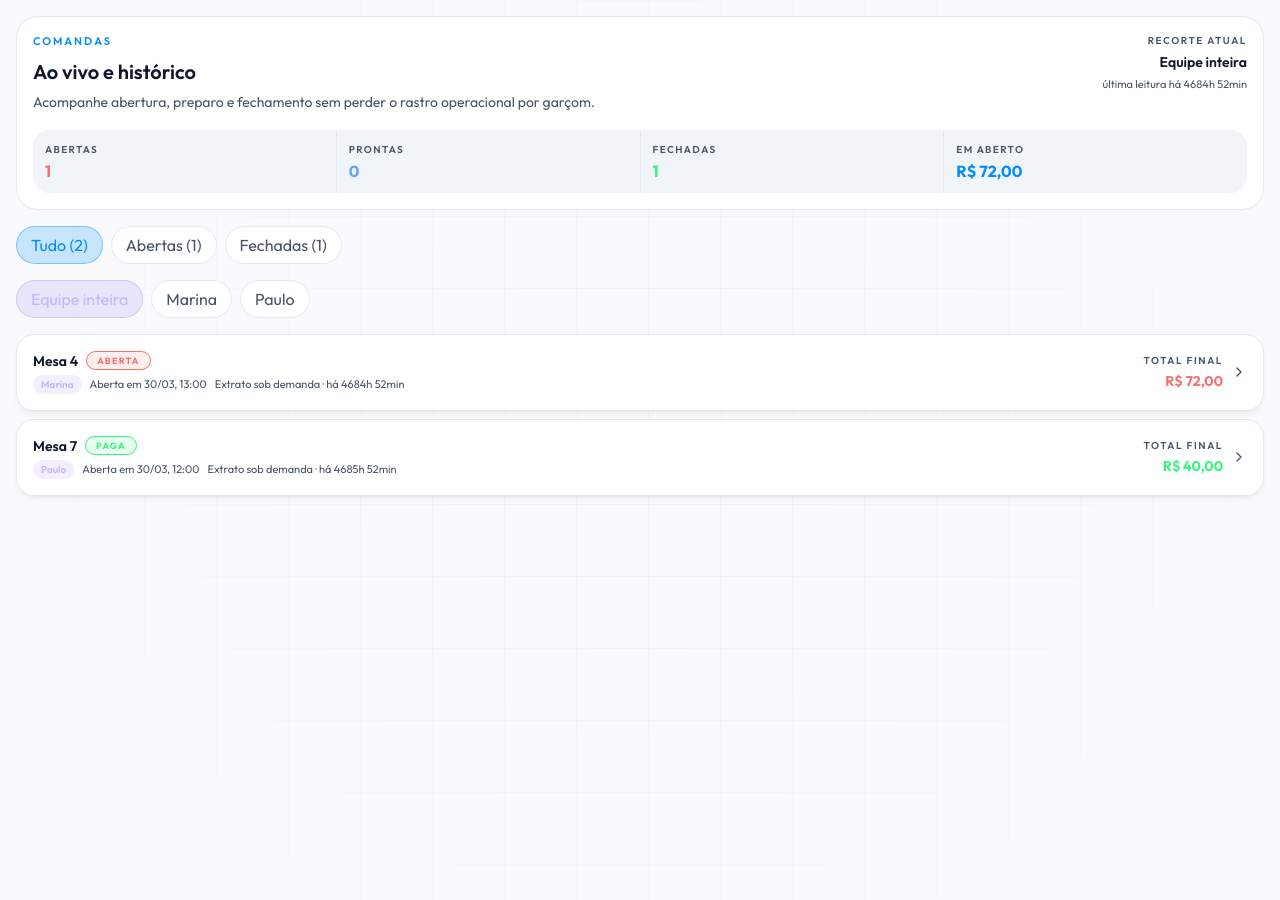
Test: OwnerComandasView › permite filtrar o atendimento por garçom e recalcula o recorte
Click the button with test id "owner-responsible-filter-marina" at (192, 298), box x1=151 y1=280 x2=232 y2=318
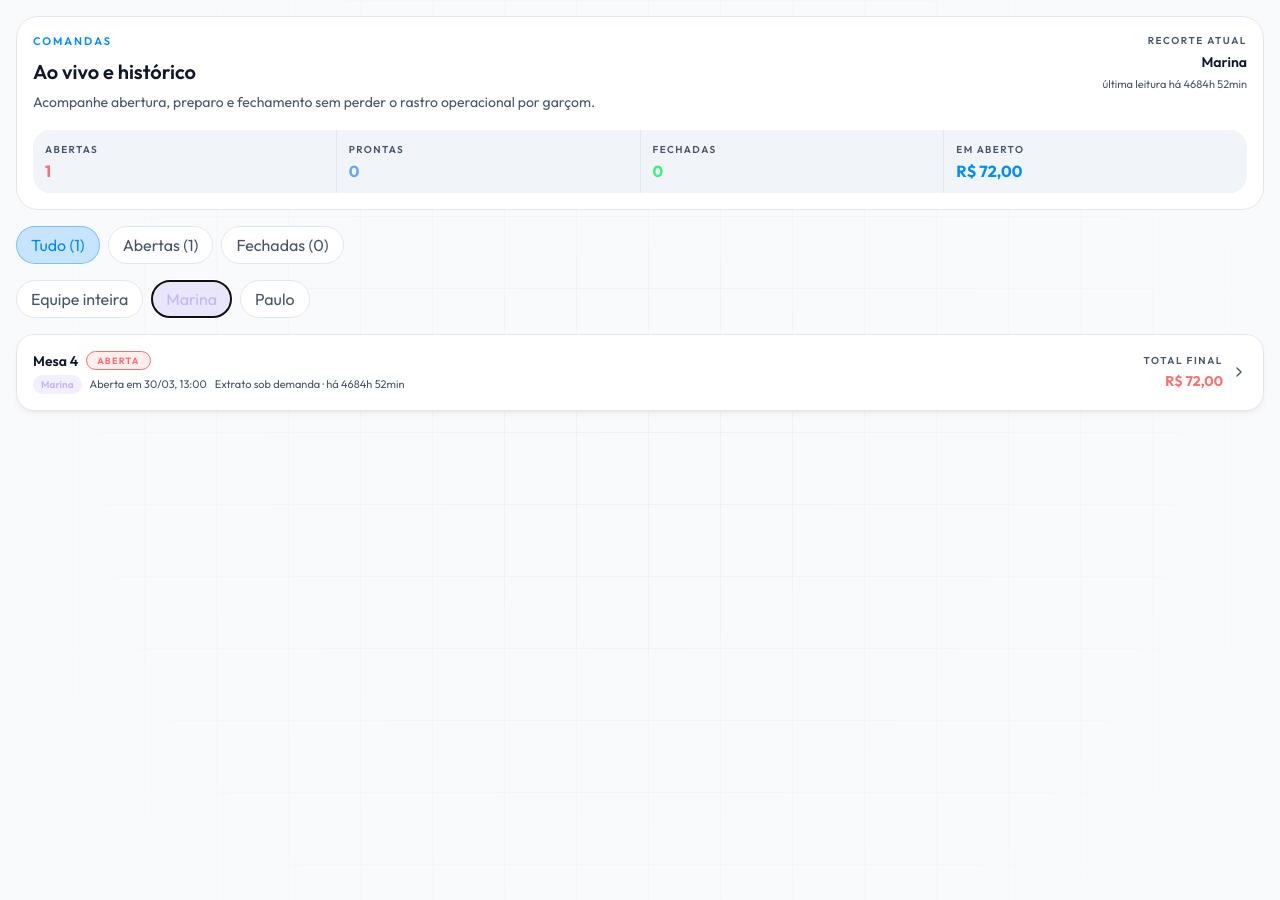
Now the list item with test id "owner-comanda-card-c-2" is gone
Now the button "Tudo (1)" is shown, box x1=16 y1=226 x2=100 y2=264
Now the button "Fechadas (0)" is shown, box x1=221 y1=226 x2=344 y2=264
